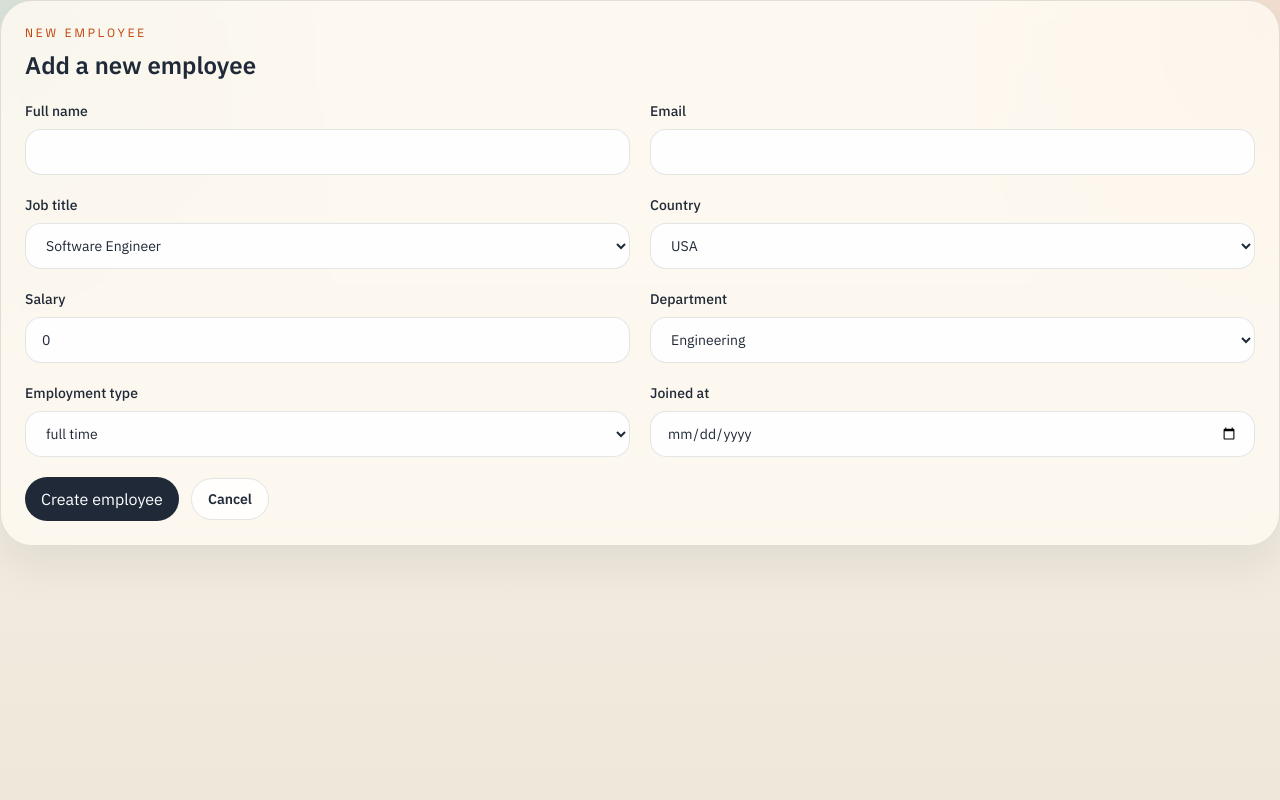
Test: EmployeeForm › maps API validation errors onto fields
Type "Nora Singh" into the field labelled "Full name".
click(328, 152); type("Nora Singh")  # box [25,129,630,175]
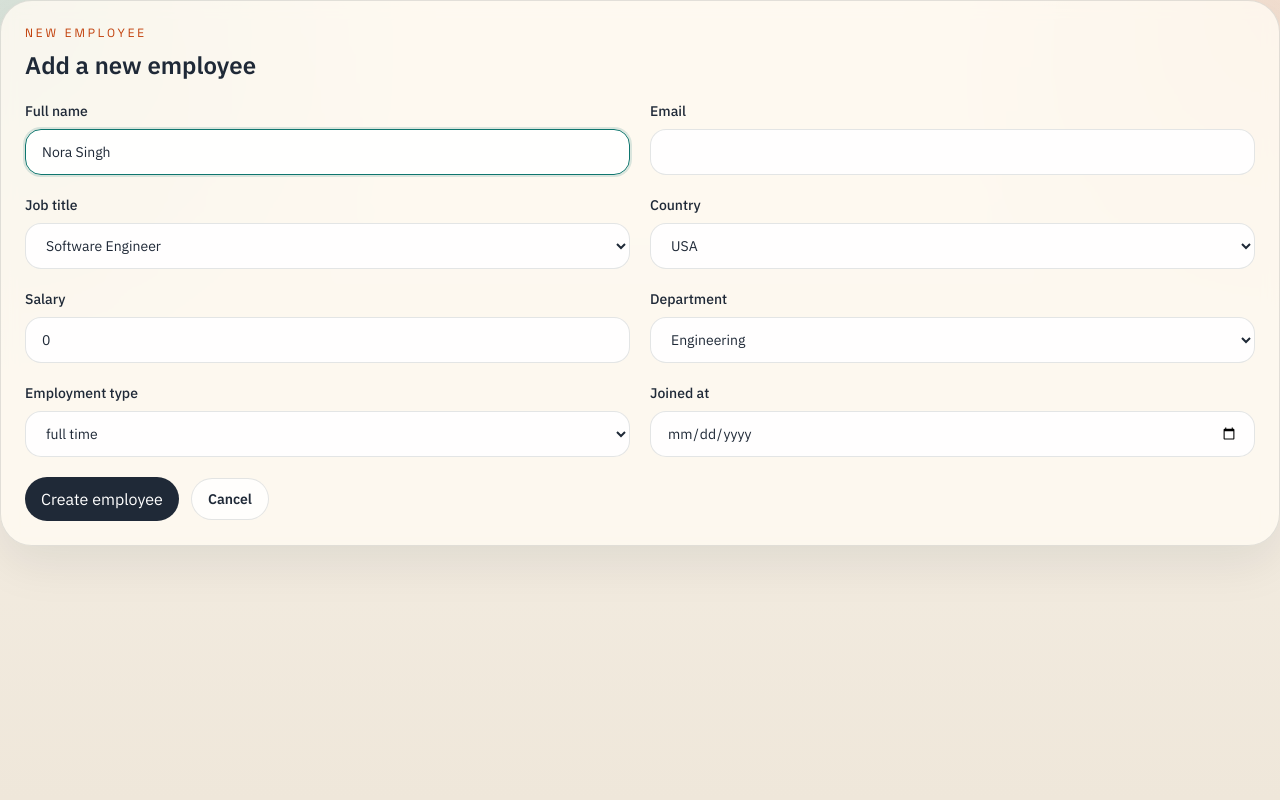
Type "nora@company.com" into the field labelled "Email".
click(952, 152); type("nora@company.com")  # box [650,129,1255,175]
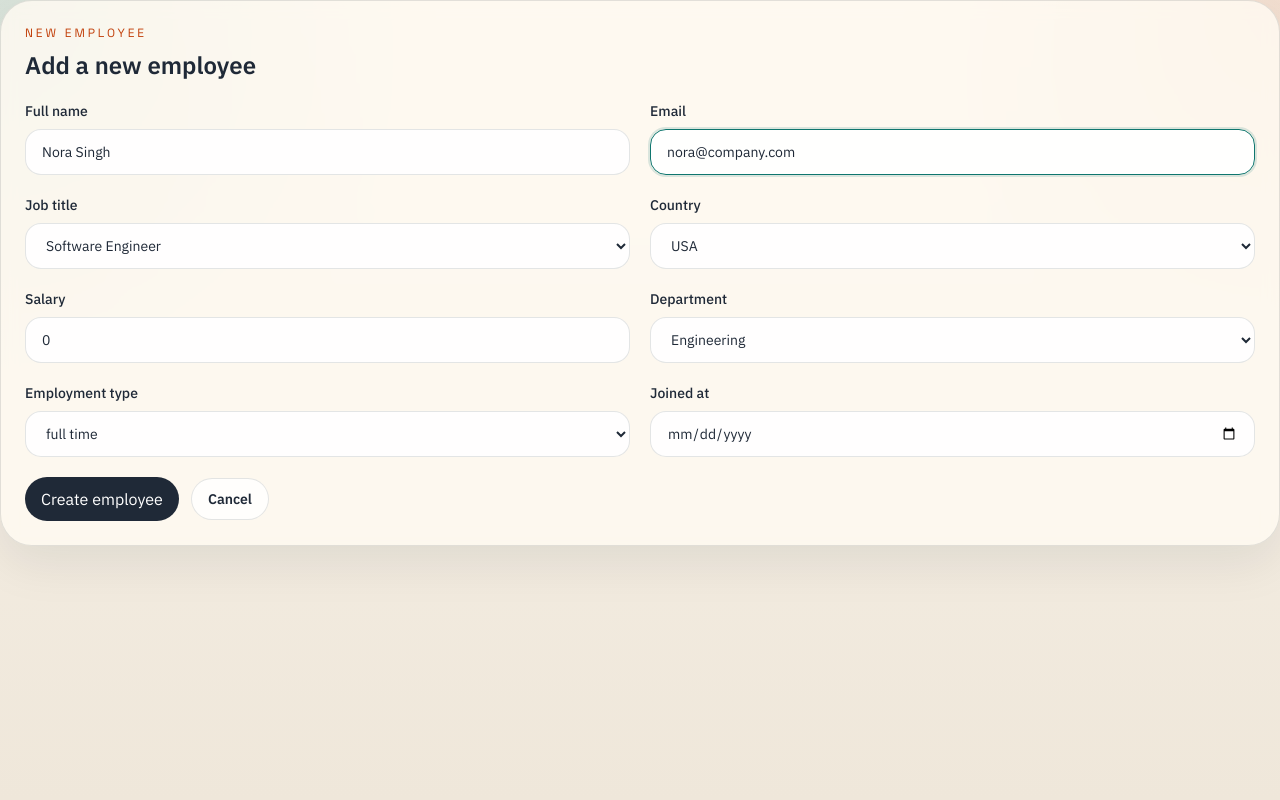
Replace the text in the number field labelled "Salary" with "100000" at (328, 340), box [25,317,630,363]
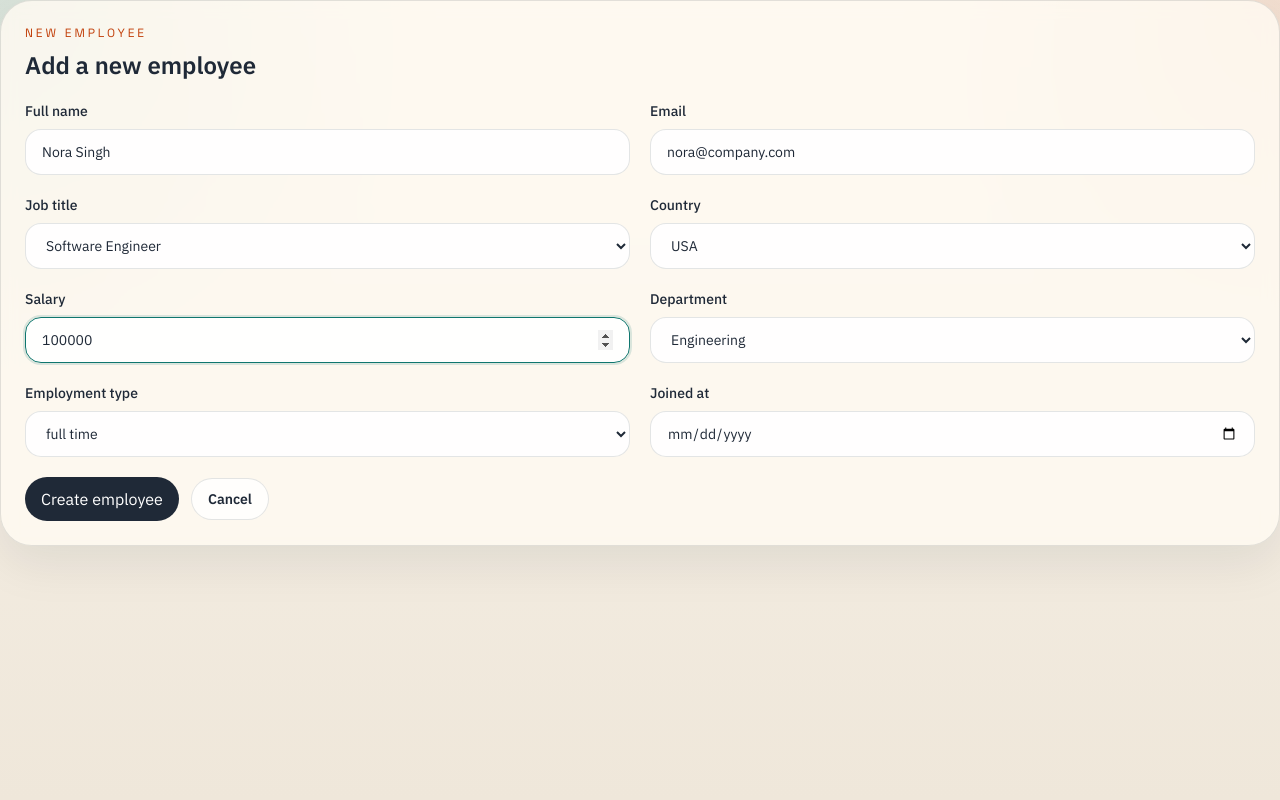
Type "2024-01-20" into the date field labelled "Joined at".
click(952, 434); type("2024-01-20")  # box [650,411,1255,457]
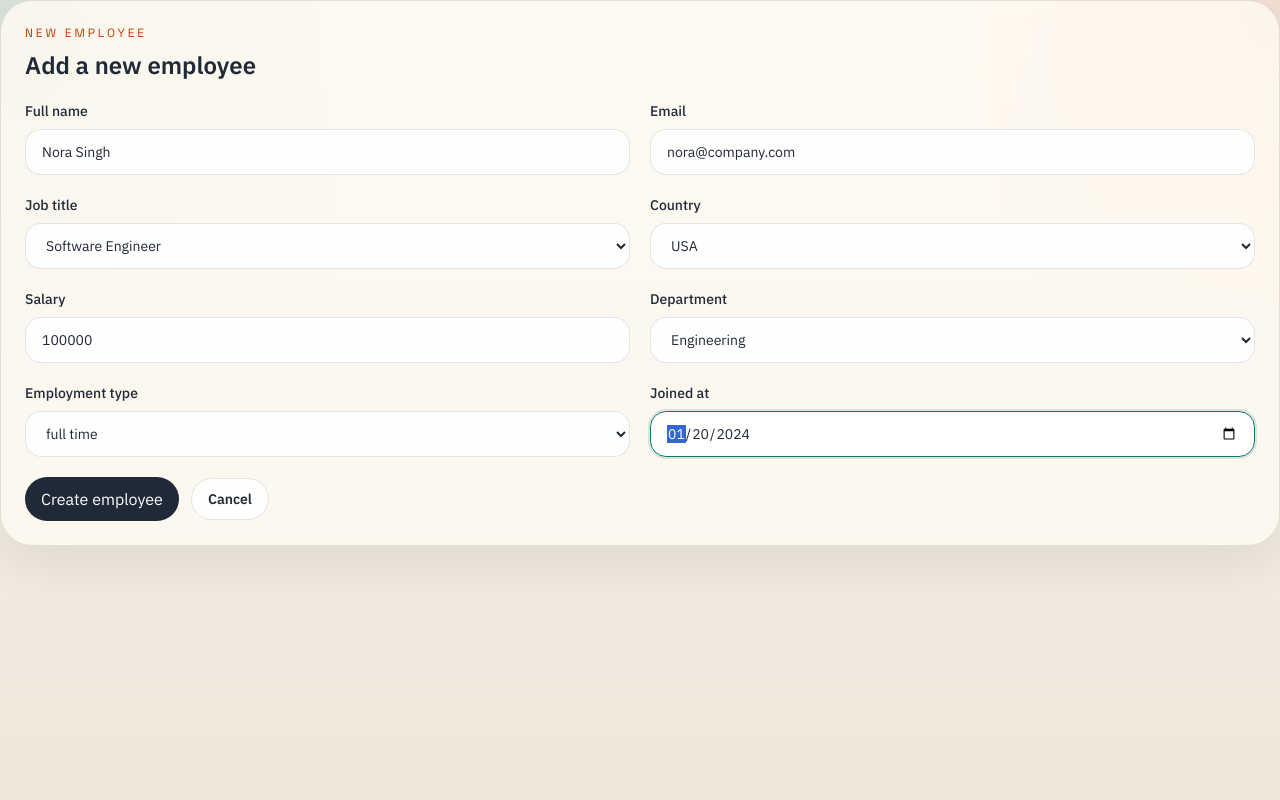
Click the button "Create employee".
click(102, 499)  # box [25,477,179,521]
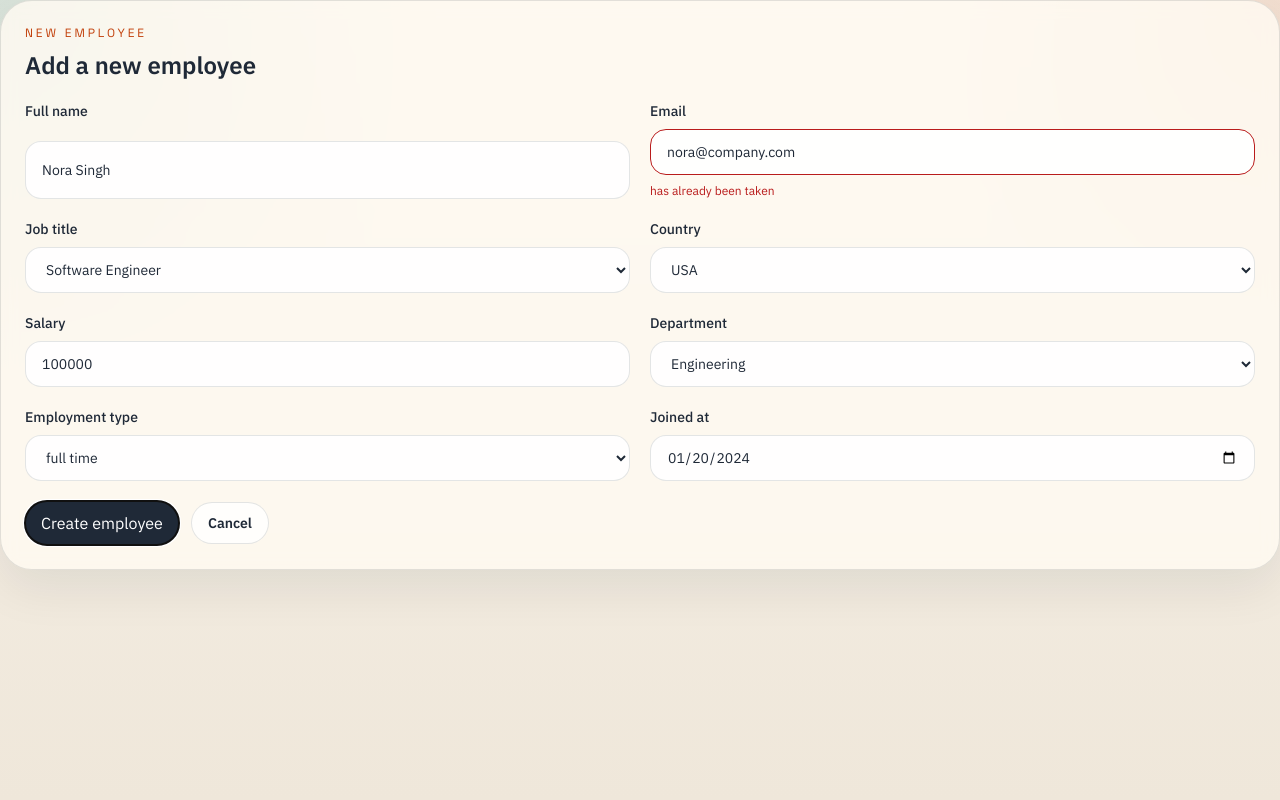
Expected: the text "has already been taken" is shown, [650,183,775,198]
